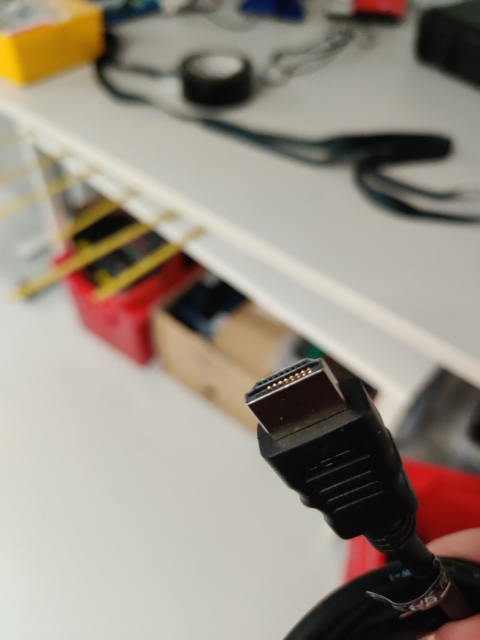HDMI: (245, 356, 348, 441)
